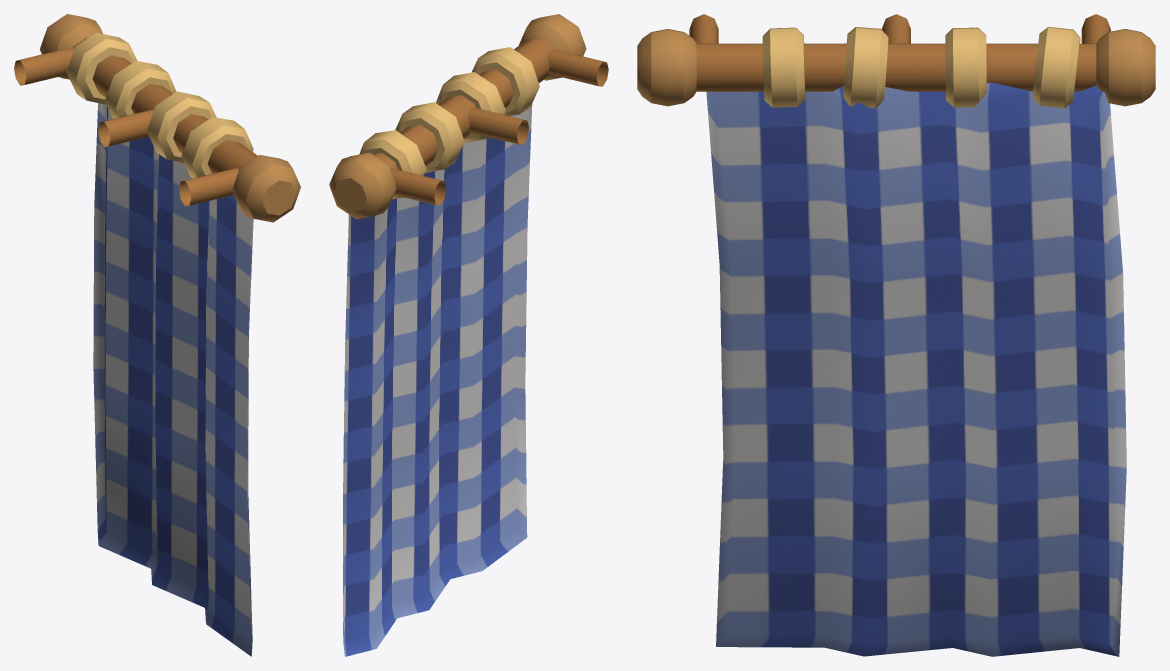
The model's file is Curtains_Short_1_C_A.glb.
3 views of the same model, side by side, from view 1: azimuth 30°, elevation 25°; view 2: azimuth 150°, elevation 25°; view 3: azimuth 270°, elevation 25° (orthographic). The views are drawn at different scales.
Parts seen in each view (by area): view 1: Curtains_Short_1_C_A; view 2: Curtains_Short_1_C_A; view 3: Curtains_Short_1_C_A.
Boxes of the visible parts, box(x1,y1,x2,y2) form: Curtains_Short_1_C_A: box(14, 14, 300, 656); Curtains_Short_1_C_A: box(329, 14, 608, 656); Curtains_Short_1_C_A: box(637, 14, 1155, 656).
Bounding box in the file's own units: 0.2275 × 1.16 × 0.8807.
Materials: 2 (2 with a texture image).
